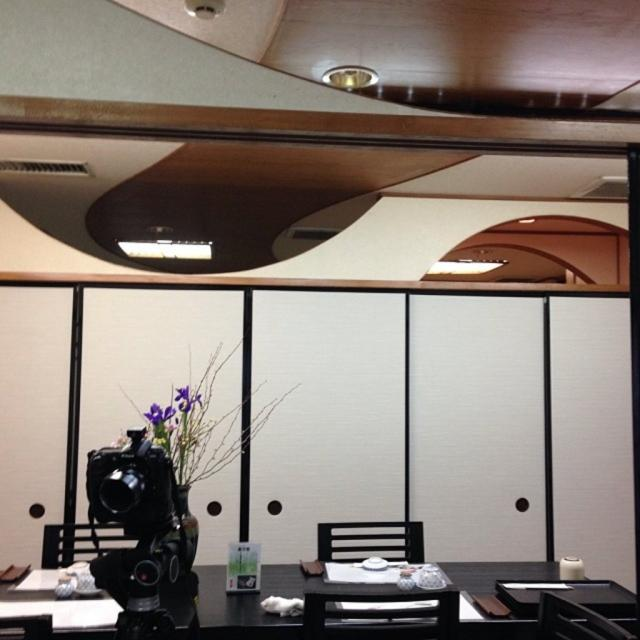chair: (318, 521, 424, 563)
desk: (0, 562, 639, 639)
